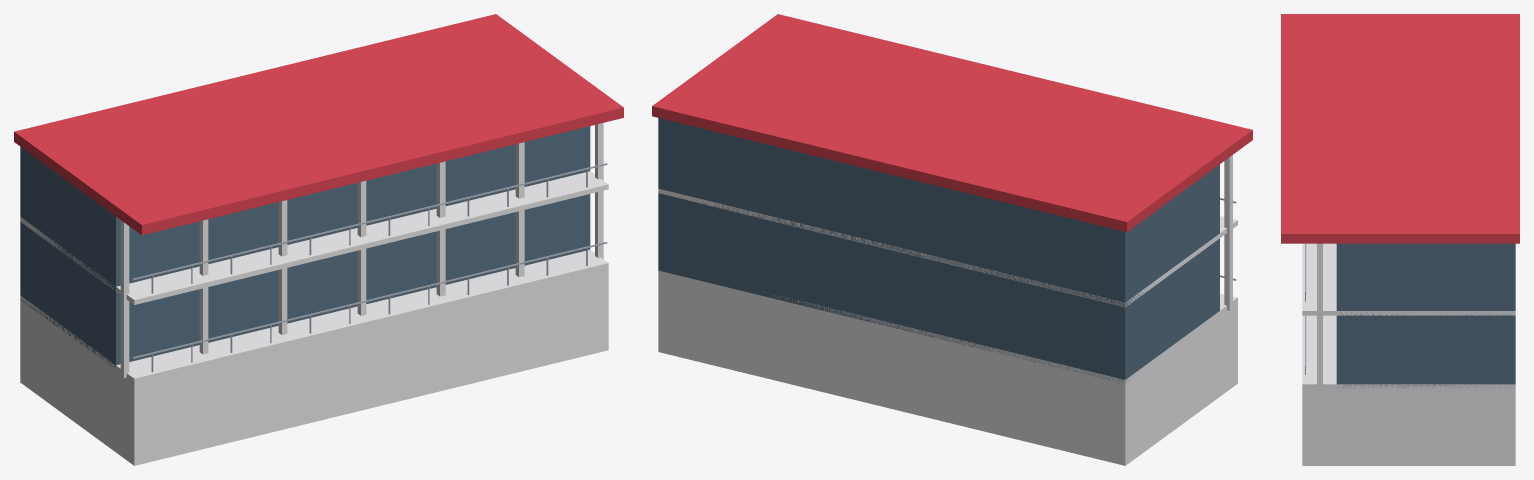
File: camarote.glb
3 renders of one model, left to right at view 1: azimuth 30°, elevation 25°; view 2: azimuth 150°, elevation 25°; view 3: azimuth 270°, elevation 25°, orthographic. The views are drawn at different scales.
Visible parts, largest first — view 1: branco, vermelho, vidro, aco; view 2: vidro, vermelho, branco; view 3: vermelho, vidro, branco.
Part boxes in pixels (x1=…): branco: x1=20, y1=123, x2=608, y2=465; vermelho: x1=14, y1=14, x2=623, y2=235; vidro: x1=20, y1=126, x2=590, y2=368; aco: x1=132, y1=163, x2=607, y2=372; vidro: x1=658, y1=118, x2=1219, y2=382; vermelho: x1=652, y1=14, x2=1252, y2=231; branco: x1=658, y1=155, x2=1237, y2=465; vermelho: x1=1281, y1=14, x2=1519, y2=243; vidro: x1=1336, y1=243, x2=1515, y2=388; branco: x1=1302, y1=243, x2=1515, y2=465.
Bounding box in the file's own units: 24.4 × 12.1 × 11.2.
